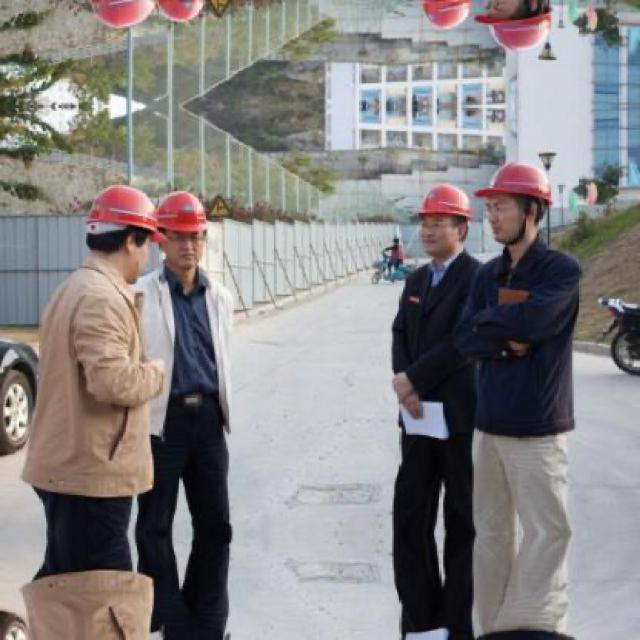helmet: (480, 157, 555, 247), (86, 179, 156, 271), (415, 179, 477, 259), (480, 0, 557, 57), (157, 187, 209, 268), (86, 0, 157, 35), (414, 0, 477, 35), (156, 0, 210, 28)
